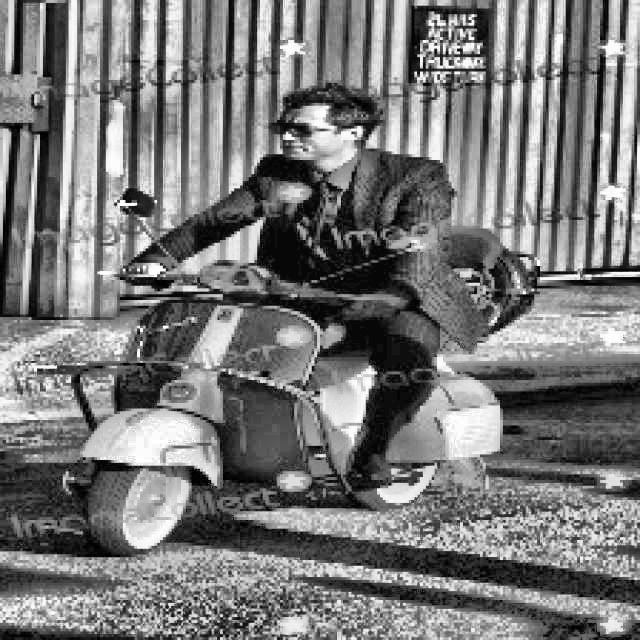motorcycle: (70, 177, 521, 557)
